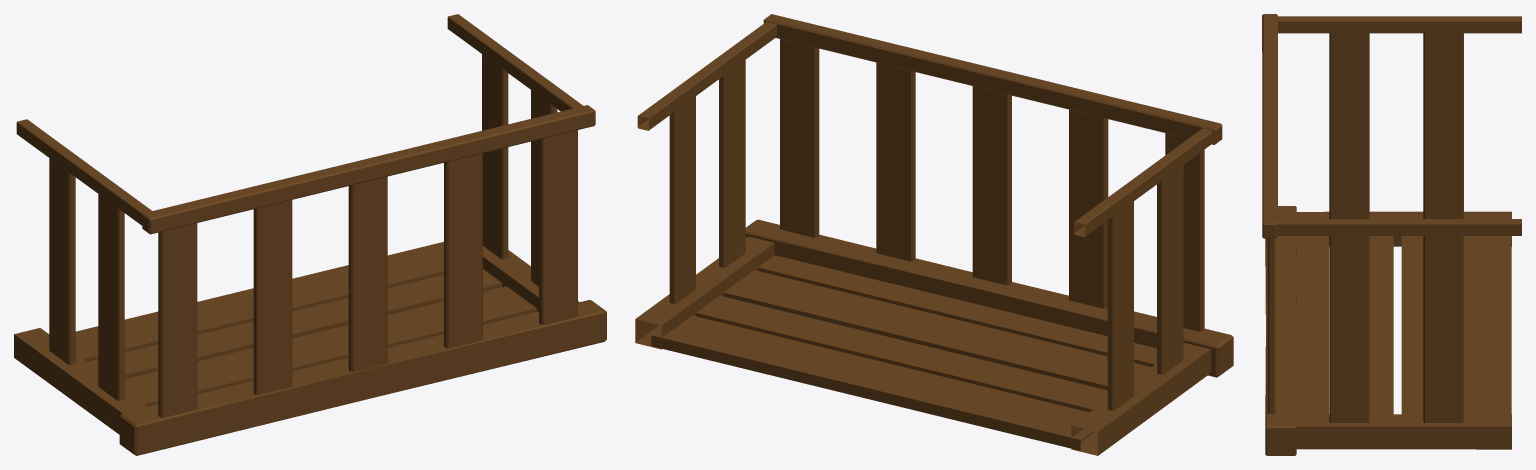
Rendered from Balcon.fbx.
3 renders of one model, left to right at view 1: azimuth 30°, elevation 25°; view 2: azimuth 150°, elevation 25°; view 3: azimuth 270°, elevation 25°, orthographic. The views are drawn at different scales.
Visible parts, largest first — view 1: Balcon; view 2: Balcon; view 3: Balcon.
Part boxes in pixels (x1,y1,x2,y2): Balcon: [14, 14, 606, 455]; Balcon: [635, 14, 1233, 455]; Balcon: [1262, 14, 1521, 455].
Size of the model in its own units: 1.14 by 0.5453 by 0.5639.
